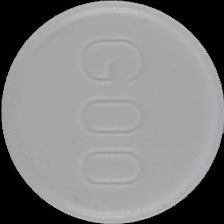51285-103: (0, 0, 224, 224)
